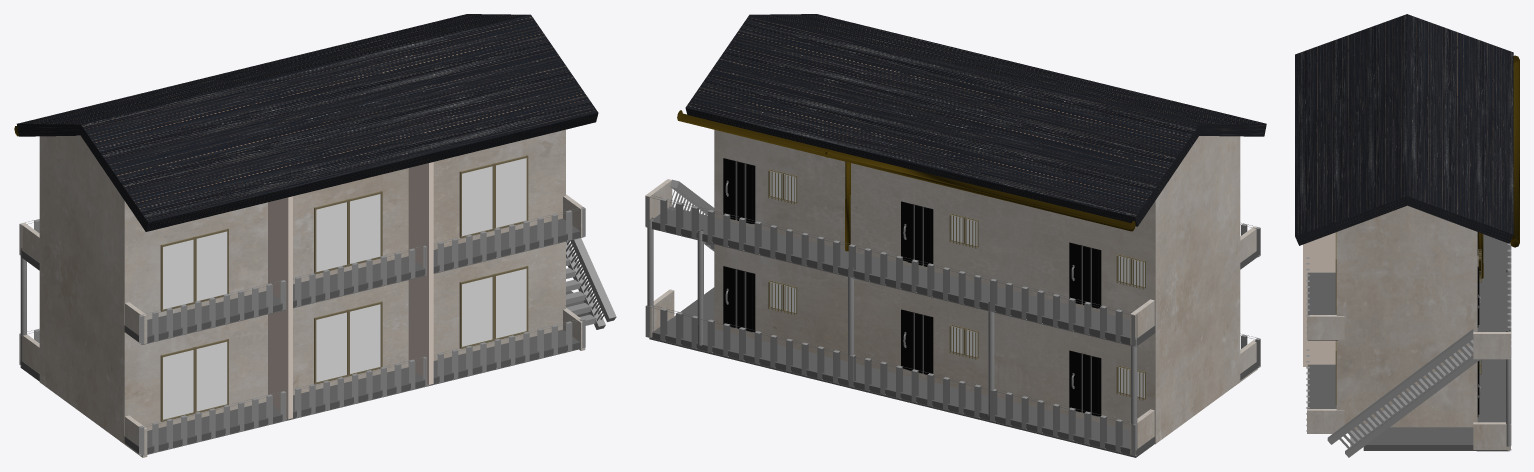
Rendered from マンション.fbx.
3 views of the same model, side by side, from view 1: azimuth 30°, elevation 25°; view 2: azimuth 150°, elevation 25°; view 3: azimuth 270°, elevation 25° (orthographic). The views are drawn at different scales.
Visible parts, largest first — view 1: Cube, Cube.007, Cube.006, Cube.003, Cylinder, Cube.002; view 2: Cube, Cube.006, Cylinder, Cube.010, Cube.007, Cube.001, Cylinder.002, Cube.016, Cube.122, Cube.005, Cube.017, Cube.018 (+8 smaller); view 3: Cube, Cube.007, Cube.006, Cube.010, Cube.003, Cube.001, Cylinder.002, Cube.002, Cylinder.
Part boxes in pixels (bbox=[...]): Cube: bbox=[20, 129, 585, 457]; Cube.007: bbox=[81, 14, 598, 231]; Cube.006: bbox=[17, 14, 529, 136]; Cube.003: bbox=[566, 238, 616, 329]; Cylinder: bbox=[19, 219, 39, 365]; Cube.002: bbox=[566, 257, 596, 325]; Cube: bbox=[645, 130, 1260, 454]; Cube.006: bbox=[685, 15, 1199, 226]; Cylinder: bbox=[645, 195, 1137, 456]; Cube.010: bbox=[649, 287, 1155, 457]; Cube.007: bbox=[749, 14, 1266, 136]; Cube.001: bbox=[652, 206, 1155, 346]; Cylinder.002: bbox=[677, 110, 1135, 251]; Cube.016: bbox=[723, 266, 755, 332]; Cube.122: bbox=[1069, 350, 1101, 416]; Cube.005: bbox=[901, 309, 933, 374]; Cube.017: bbox=[1069, 242, 1101, 308]; Cube.018: bbox=[723, 158, 755, 223]; Cube: bbox=[1303, 205, 1510, 449]; Cube.007: bbox=[1295, 14, 1407, 245]; Cube.006: bbox=[1407, 14, 1513, 243]; Cube.010: bbox=[1363, 359, 1509, 451]; Cube.003: bbox=[1327, 329, 1480, 457]; Cube.001: bbox=[1477, 234, 1509, 331]; Cylinder.002: bbox=[1478, 55, 1519, 278]; Cube.002: bbox=[1350, 340, 1473, 446]; Cylinder: bbox=[1506, 242, 1511, 450].
Size of the model in its own units: 3347 by 1929 by 1594.
Materials: 109 (3 with a texture image).
